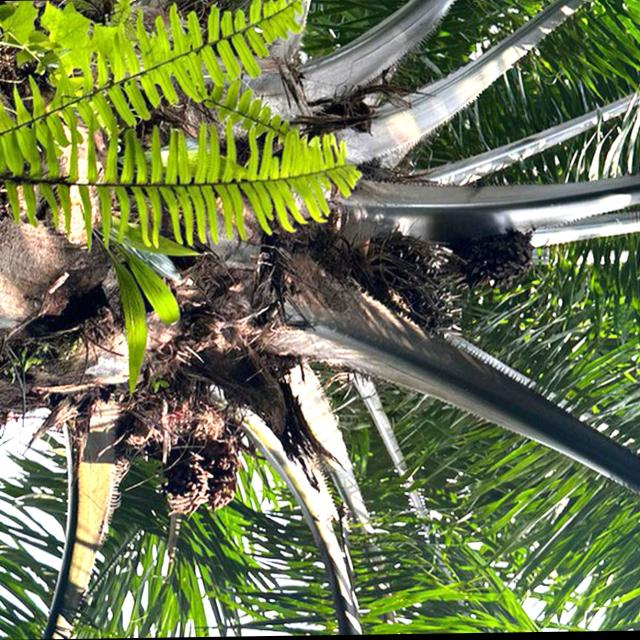ripe: (337, 225, 473, 345)
